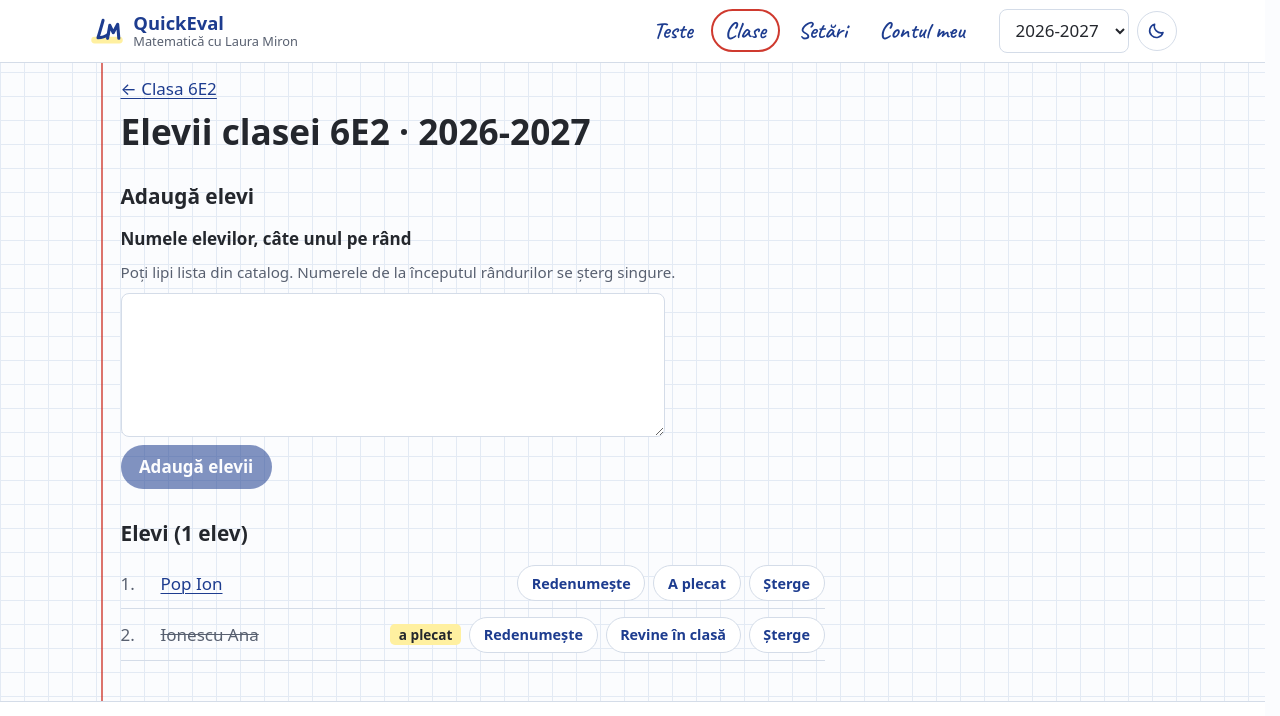
Test case: ClassStudentsPage › marks a student as left
Click the button "A plecat" at [697, 583], box [653,565,741,601]
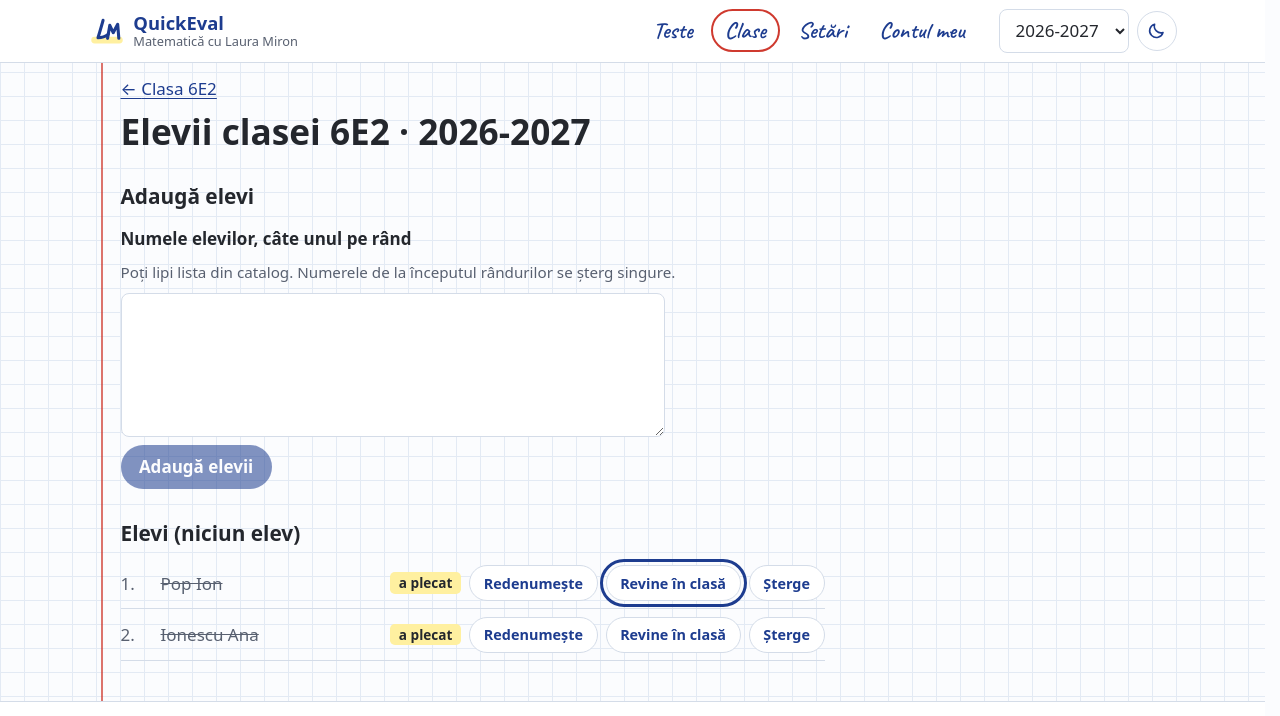
Now the button "Revine în clasă" in the row of "Pop Ion" is shown, box [606,565,741,601]
